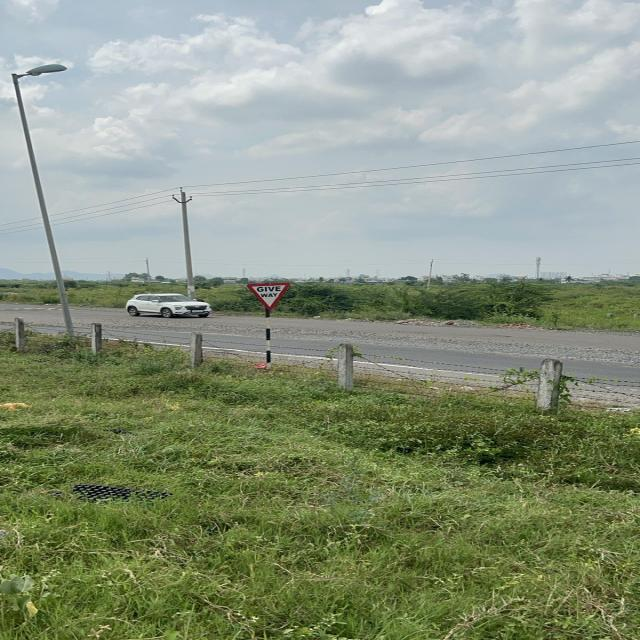give way: (246, 282, 292, 308)
